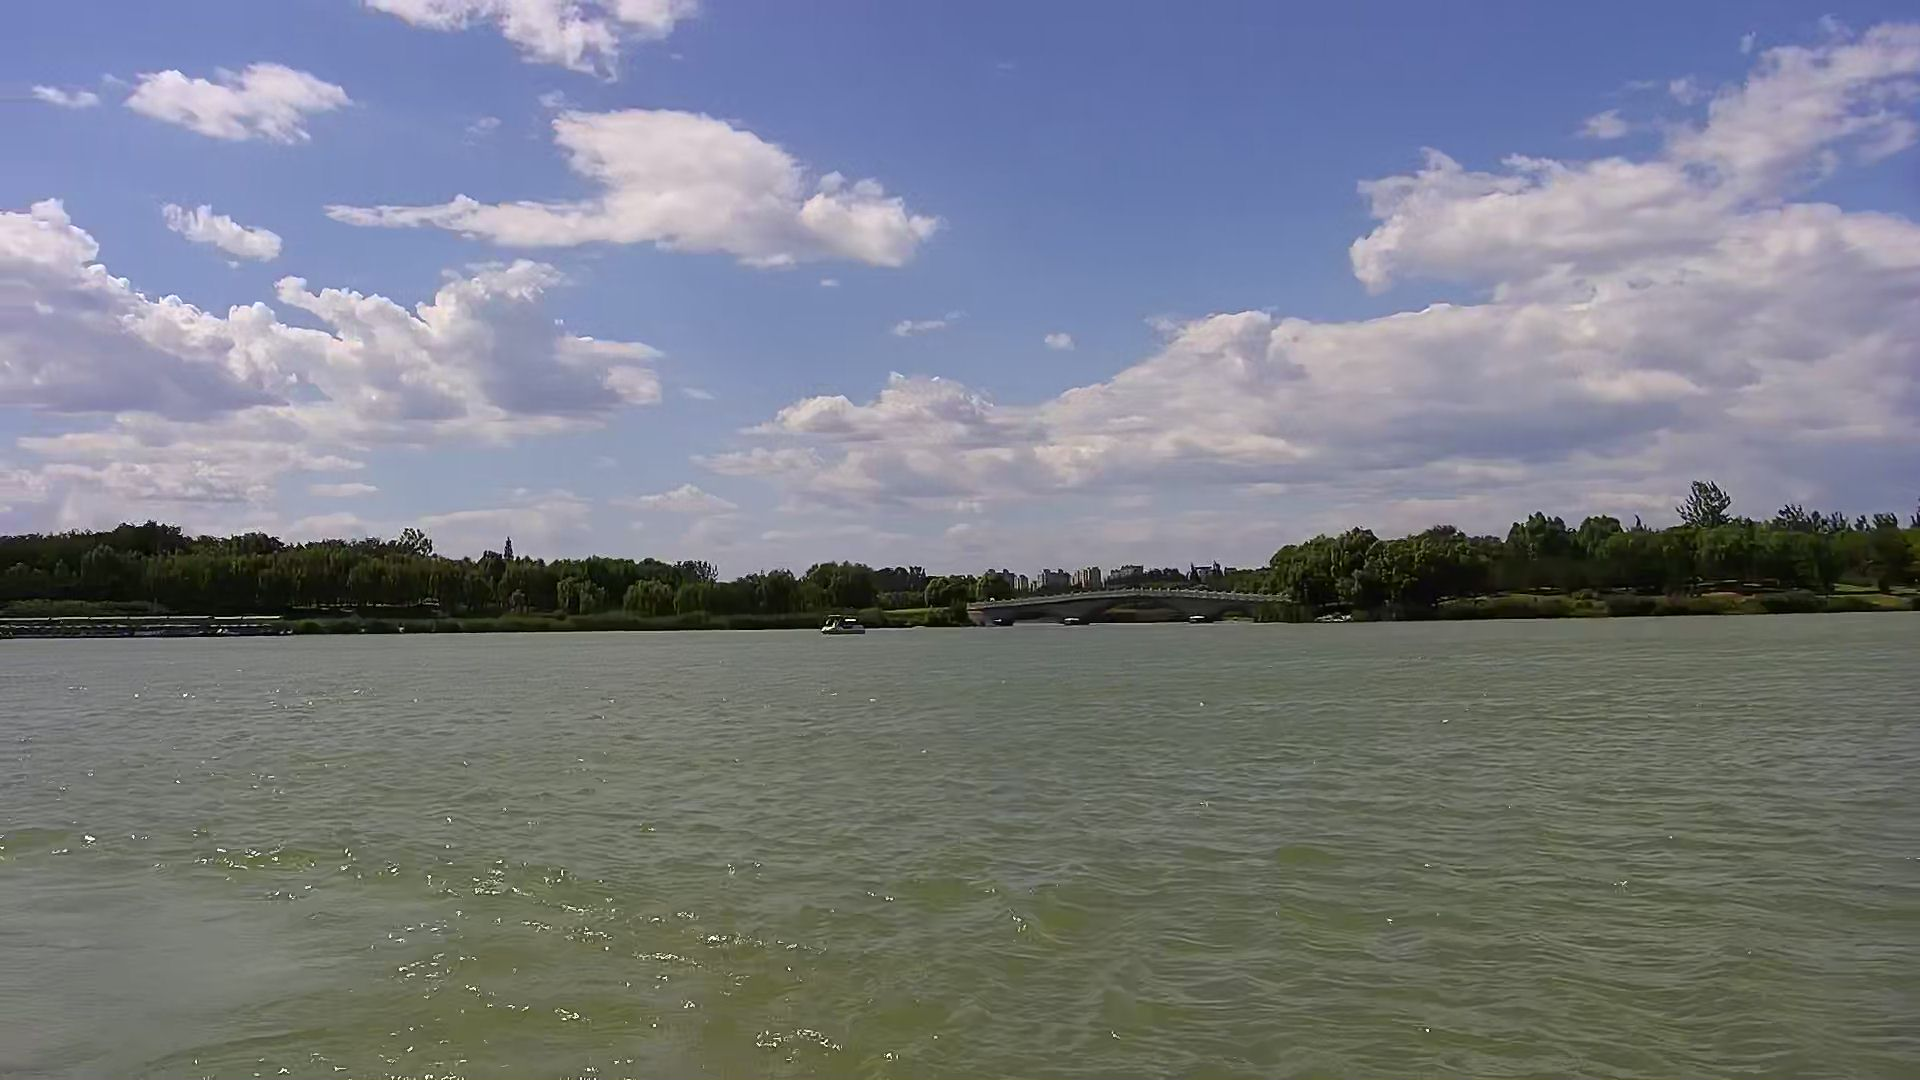boat: (823, 615, 868, 640)
bridge: (971, 588, 1311, 626), (1, 613, 280, 641)
